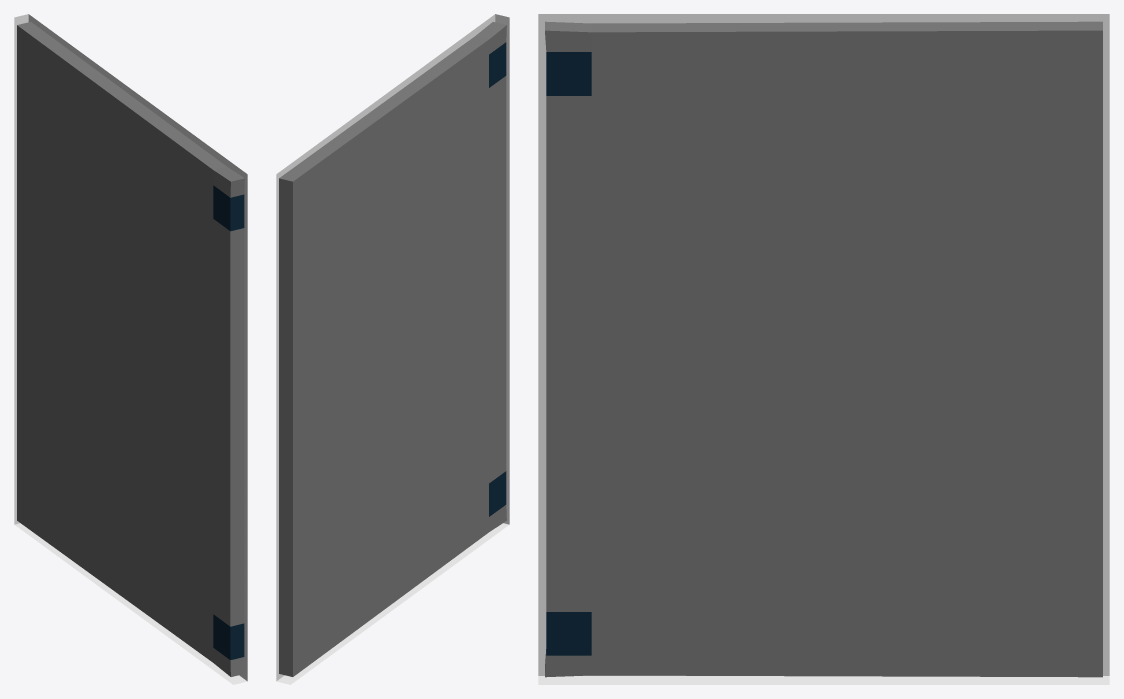
Rendered from urinal_divider.gltf.
3 renders of one model, left to right at view 1: azimuth 30°, elevation 25°; view 2: azimuth 150°, elevation 25°; view 3: azimuth 270°, elevation 25°, orthographic. The views are drawn at different scales.
Visible parts, largest first — view 1: Divider; view 2: Divider; view 3: Divider.
Part boxes in pixels (x1,y1,x2,y2): Divider: (14,14,247,684); Divider: (276,14,509,684); Divider: (538,14,1109,684).
Bounding box in the file's own units: 0.05 × 1.7 × 1.33.
2 materials, 1 textured.
